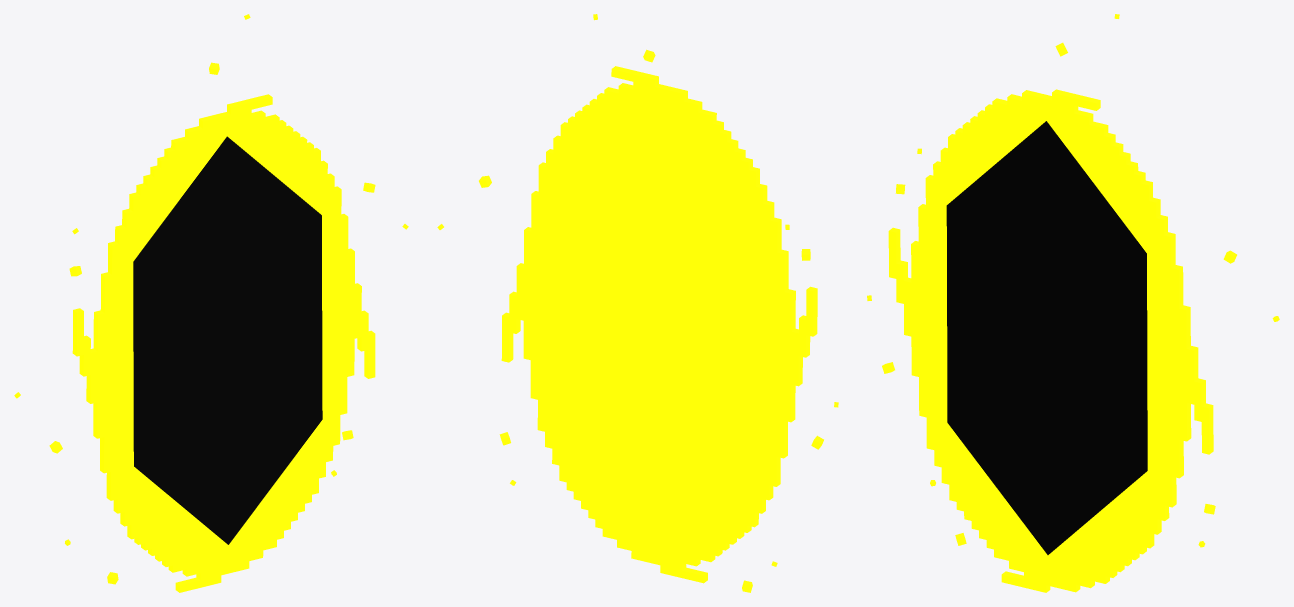
The model's file is portal-orange.glb.
3 renders of one model, left to right at view 1: azimuth 30°, elevation 25°; view 2: azimuth 150°, elevation 25°; view 3: azimuth 330°, elevation 25°, orthographic. The views are drawn at different scales.
Visible parts, largest first — view 1: Circle, Blue; view 2: Blue; view 3: Circle, Blue.
Boxes of the visible parts, x1,y1,x2,y2 form: Circle: [133, 136, 322, 544]; Blue: [14, 14, 408, 592]; Blue: [437, 14, 838, 592]; Circle: [946, 121, 1147, 554]; Blue: [867, 14, 1279, 592].
Size of the model in its own units: 5.6 by 7.42 by 0.6871.
